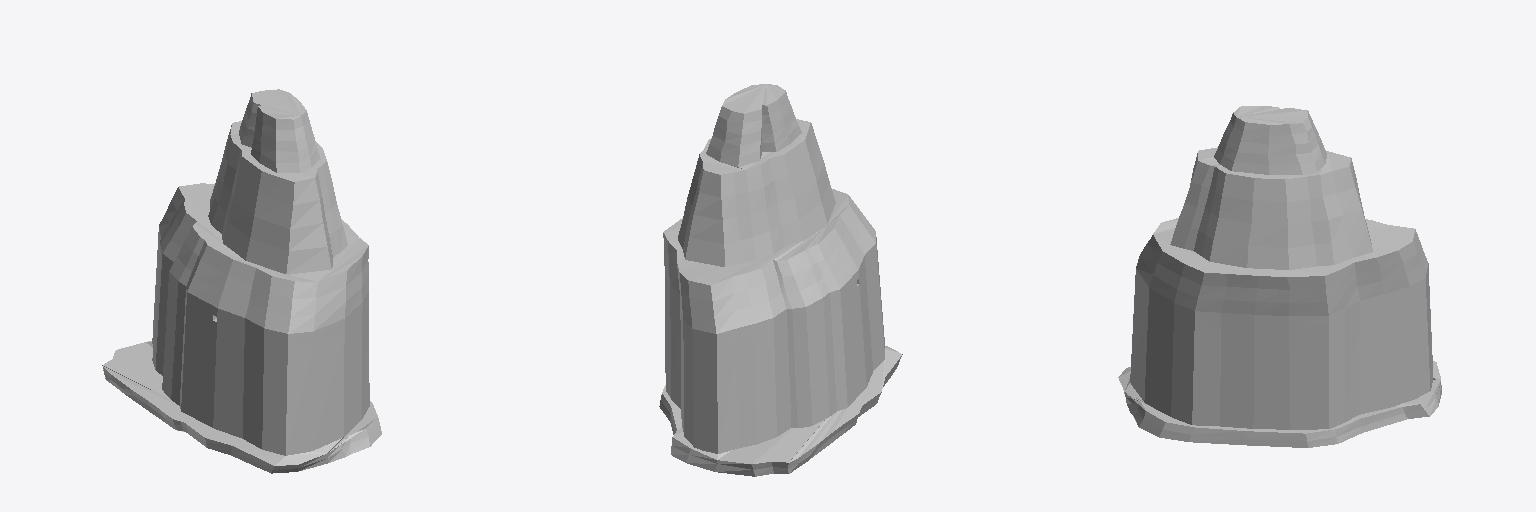
The model's file is MountainObstacle.obj.
3 views of the same model, side by side, from view 1: azimuth 30°, elevation 25°; view 2: azimuth 150°, elevation 25°; view 3: azimuth 270°, elevation 25° (orthographic).
Parts seen in each view (by area): view 1: MountainObstacle.001_Plane.008; view 2: MountainObstacle.001_Plane.008; view 3: MountainObstacle.001_Plane.008.
Boxes of the visible parts, <box> form: MountainObstacle.001_Plane.008: <box>102,89,381,473</box>; MountainObstacle.001_Plane.008: <box>659,84,902,476</box>; MountainObstacle.001_Plane.008: <box>1118,106,1441,447</box>.
Size of the model in its own units: 98.15 by 161 by 156.